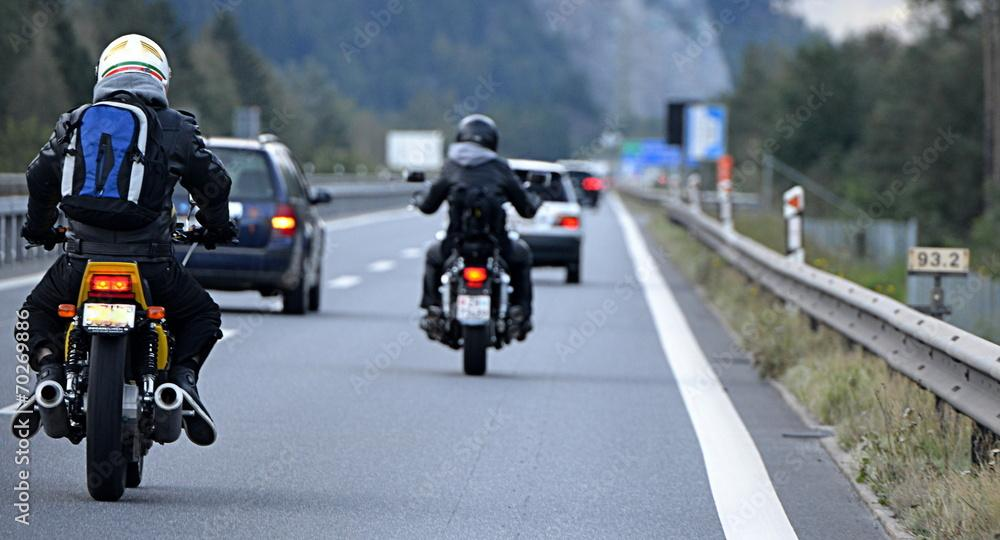helmet: (94, 32, 172, 109), (455, 112, 501, 155)
